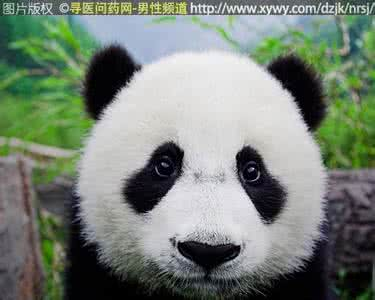panda: (61, 37, 332, 297)
